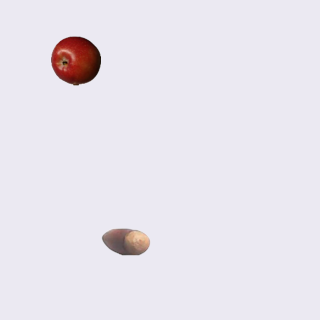Apple Braeburn: (50, 35, 100, 85)
Hazelnut: (100, 216, 150, 266)
